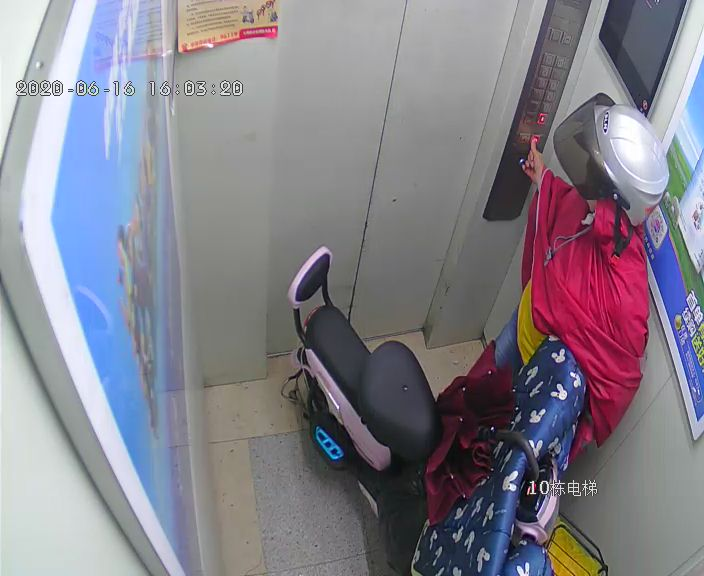Electric-bicycle: (287, 247, 610, 576)
